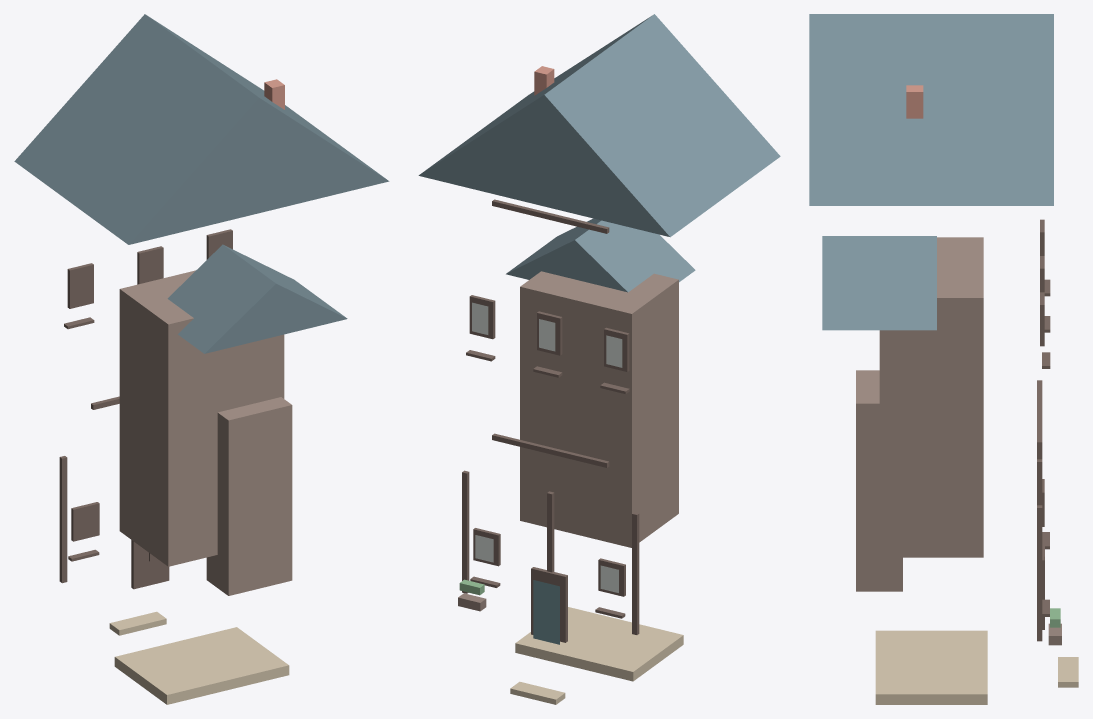
The model's file is moonhill-wind-shelter-01.glb.
3 renders of one model, left to right at view 1: azimuth 30°, elevation 25°; view 2: azimuth 150°, elevation 25°; view 3: azimuth 270°, elevation 25°, orthographic. The views are drawn at different scales.
Parts seen in each view (by area): view 1: roof, body, wing, wing_roof, plinth, door_frame, up_-0.84, uwf_1_-0.66, wf_-0.62, uwf_1_0.00, step; view 2: roof, body, wing_roof, plinth, door, door_frame, up_-0.84, beam_2, beam_1, up_0.84, step, up_0.00 (+3 smaller); view 3: roof, body, wing_roof, plinth, wing, up_0.84, step, chimney.
Boxes of the visible parts, bbox=[...] form: roof: bbox=[14, 14, 389, 244]; body: bbox=[119, 270, 284, 566]; wing: bbox=[206, 397, 292, 595]; wing_roof: bbox=[167, 244, 347, 353]; plinth: bbox=[114, 627, 289, 704]; door_frame: bbox=[131, 540, 169, 589]; up_-0.84: bbox=[59, 456, 67, 583]; uwf_1_-0.66: bbox=[67, 263, 93, 308]; wf_-0.62: bbox=[71, 502, 99, 541]; uwf_1_0.00: bbox=[137, 246, 163, 284]; step: bbox=[109, 611, 166, 635]; roof: bbox=[418, 14, 780, 237]; body: bbox=[520, 271, 678, 547]; wing_roof: bbox=[506, 218, 695, 292]; plinth: bbox=[515, 607, 683, 681]; door: bbox=[533, 580, 559, 644]; door_frame: bbox=[531, 567, 567, 642]; up_-0.84: bbox=[632, 512, 639, 634]; beam_2: bbox=[492, 199, 609, 233]; beam_1: bbox=[492, 433, 609, 467]; up_0.84: bbox=[462, 470, 469, 593]; step: bbox=[510, 681, 565, 704]; up_0.00: bbox=[547, 491, 554, 572]; roof: bbox=[809, 14, 1053, 205]; body: bbox=[879, 237, 983, 557]; wing_roof: bbox=[822, 236, 936, 330]; plinth: bbox=[875, 630, 987, 704]; wing: bbox=[856, 370, 902, 591]; up_0.84: bbox=[1037, 505, 1042, 641]; step: bbox=[1058, 657, 1078, 687]; chimney: bbox=[906, 85, 923, 118].
Bounding box in the file's own units: 2.48 × 5.61 × 2.07.
